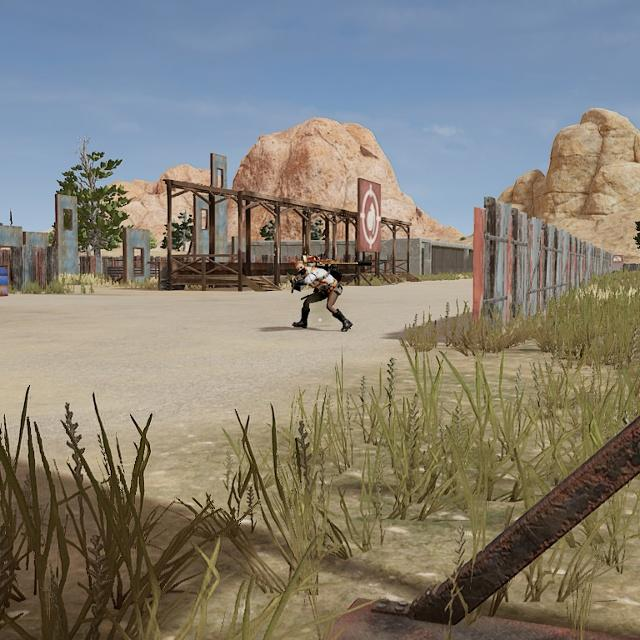head: (294, 260, 308, 276)
people: (291, 260, 354, 334)
